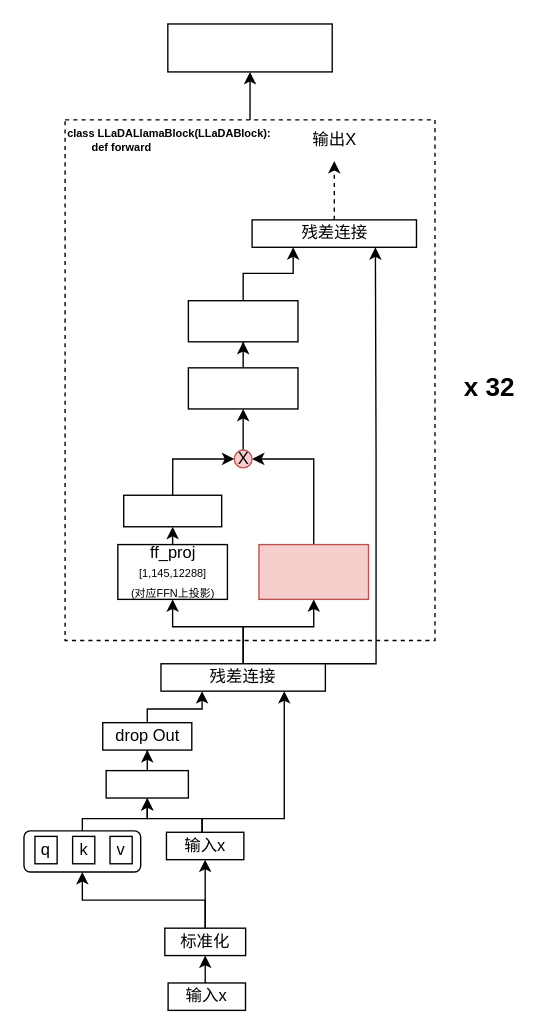
This 555x1034 diagram has some shape labels left out. Here are the shapes that lost their labels. From the top down, the box of each, then its label:
(166, 23, 332, 72): 进行标准化 x = self.transformer.ln_f(x)
(187, 299, 298, 342): Dropout [1,145,4096]
(187, 366, 298, 409): ff_out (对应FFN下投影)
(122, 494, 222, 527): 激活函数
(258, 543, 369, 599): up_proj [1,145,12288] (对应FFN下投影)
(105, 769, 188, 798): attention
